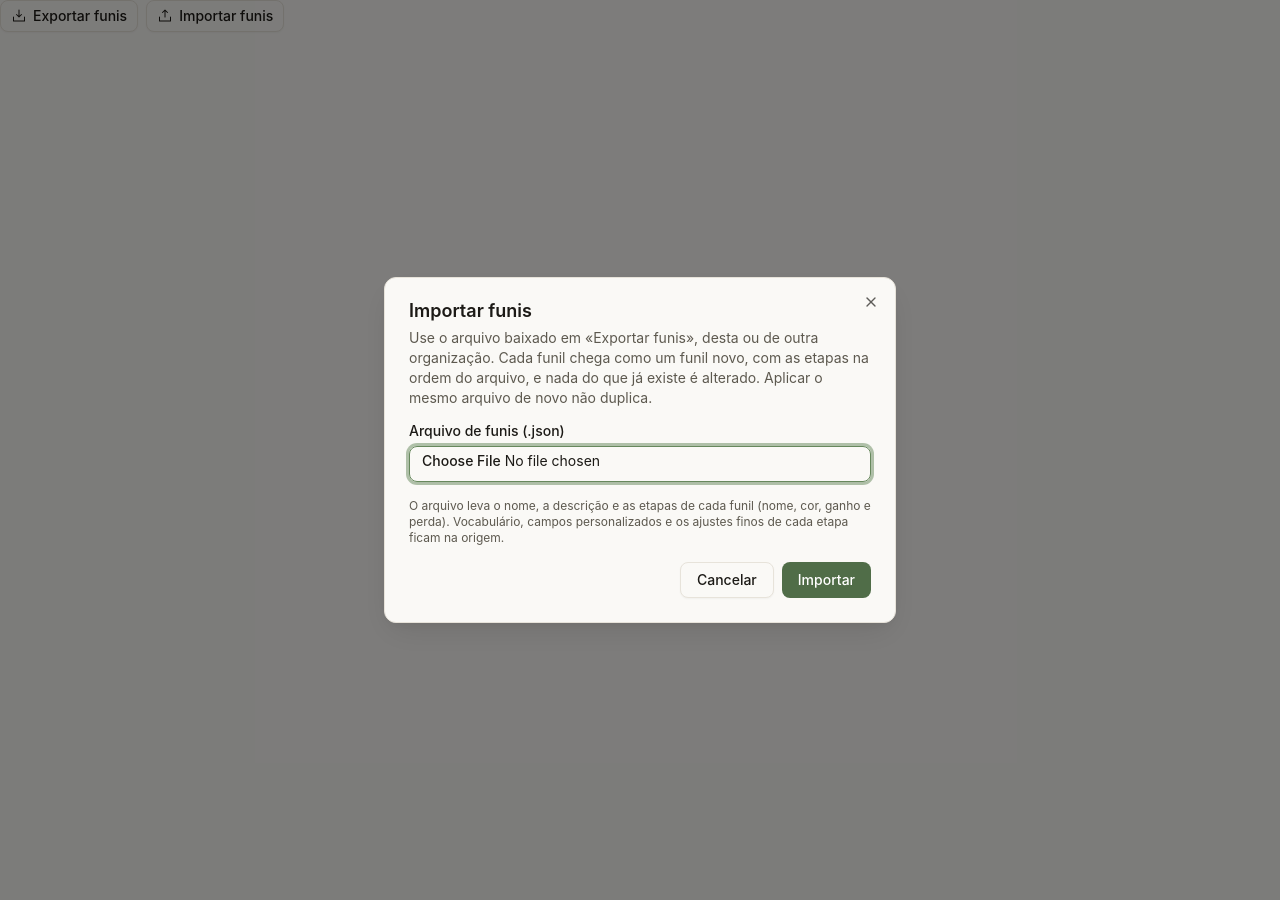
Test: Importar funis › reaplicar sem criar nada não recarrega a lista
The width and height of the screenshot is (1280, 900).
Earlier steps of the test are not shown.
Click the button "Importar" at (826, 580), box top-left (782, 562), bottom-right (871, 598)
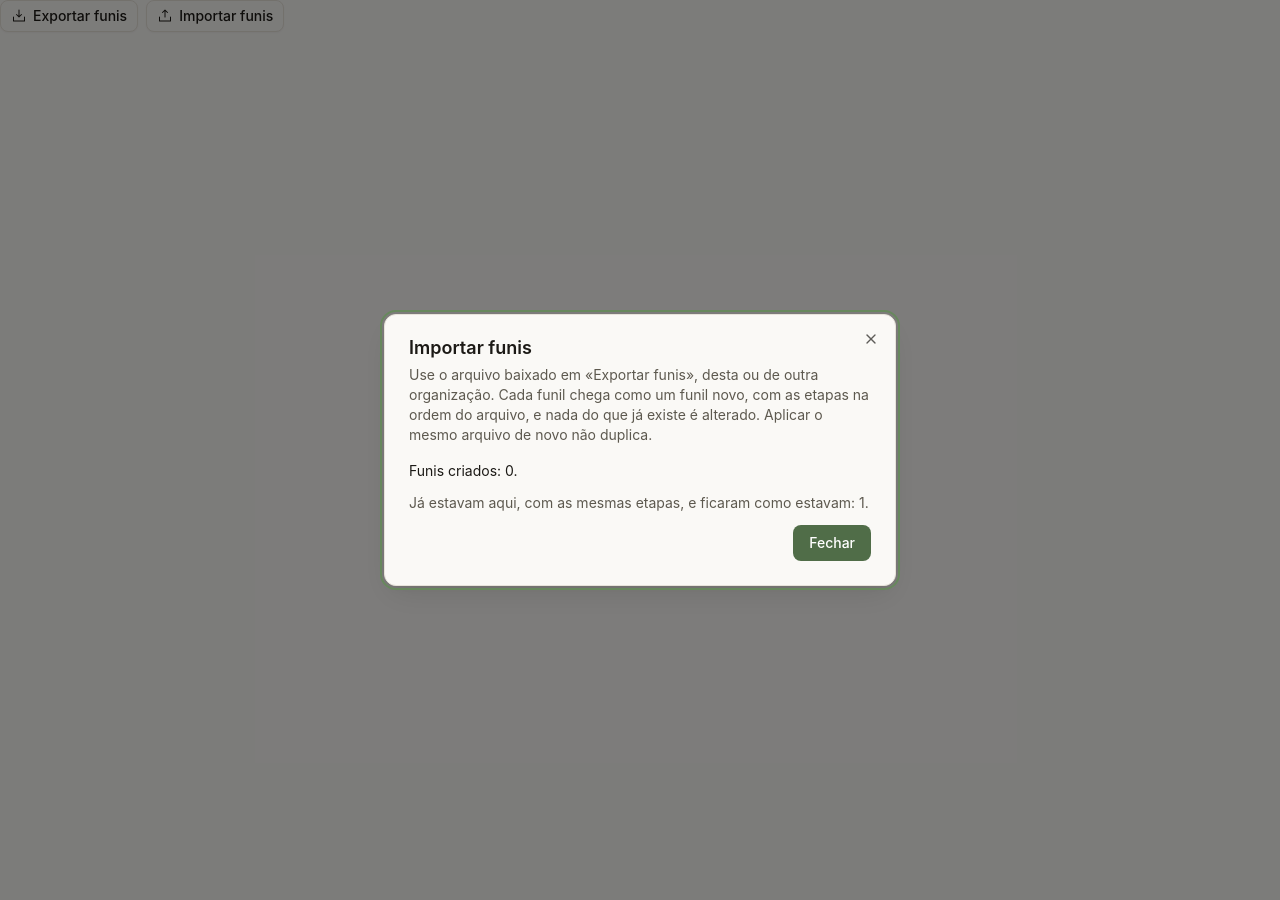
expect the text "Funis criados: 0." is shown: met, box top-left (409, 462), bottom-right (518, 479)
